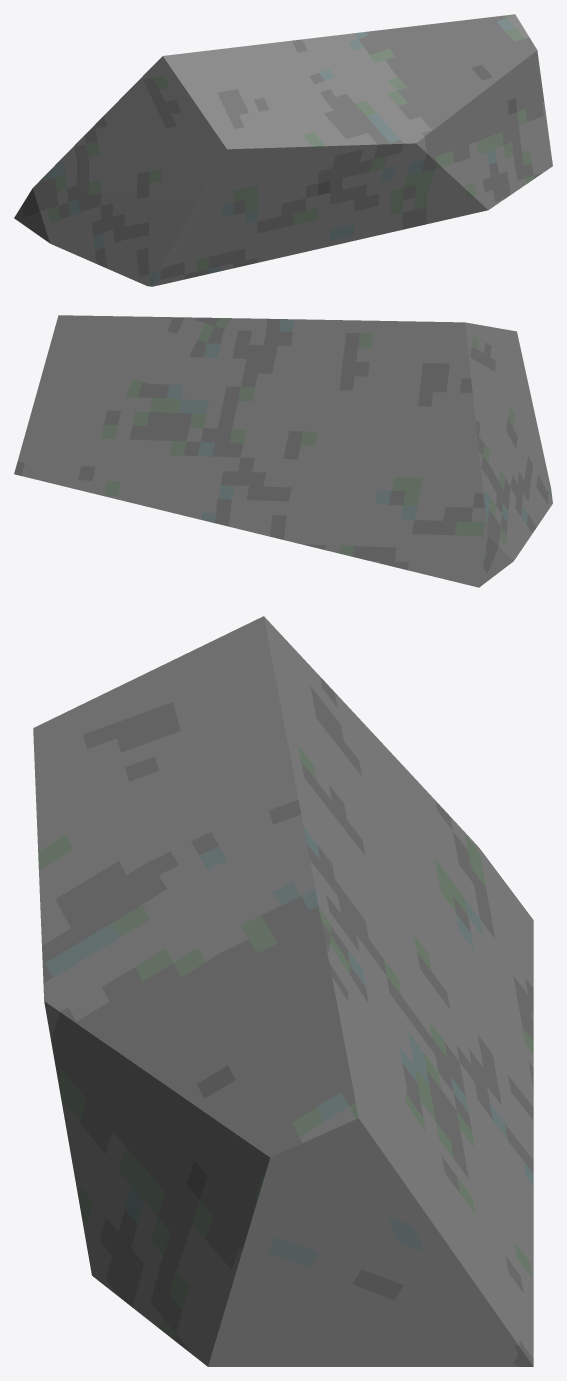
The model's file is barriar_cell_003.glb.
3 renders of one model, top to bottom at view 1: azimuth 30°, elevation 25°; view 2: azimuth 150°, elevation 25°; view 3: azimuth 270°, elevation 25°, orthographic. The views are drawn at different scales.
Visible parts, largest first — view 1: Barriar_cell.003; view 2: Barriar_cell.003; view 3: Barriar_cell.003.
Part boxes in pixels (bbox=[...]): Barriar_cell.003: bbox=[14, 14, 552, 286]; Barriar_cell.003: bbox=[14, 315, 552, 587]; Barriar_cell.003: bbox=[33, 616, 533, 1366].
Bounding box in the file's own units: 1.01 × 0.4028 × 0.4764.
Materials: 1 (1 with a texture image).
